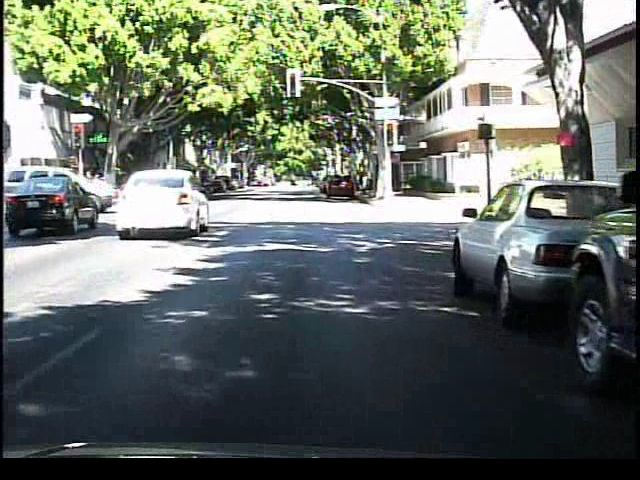person: (84, 163, 109, 207)
